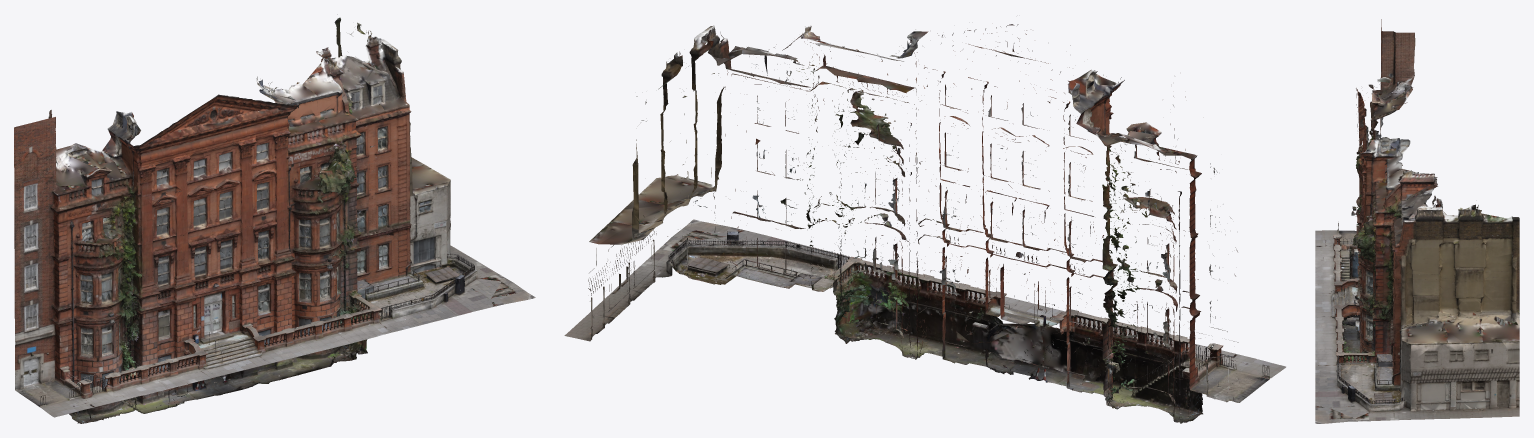
File: v5hosp.glb
The picture shows the model from 3 angles, left to right: view 1: azimuth 30°, elevation 25°; view 2: azimuth 150°, elevation 25°; view 3: azimuth 270°, elevation 25°; orthographic projection. The views are drawn at different scales.
Parts seen in each view (by area): view 1: front; view 2: front; view 3: front.
Part boxes in pixels (x1=…): front: x1=14, y1=14, x2=535, y2=423; front: x1=564, y1=24, x2=1285, y2=423; front: x1=1315, y1=19, x2=1519, y2=423.
Bounding box in the file's own units: 32.29 × 18.98 × 14.3.
Materials: 1 (1 with a texture image).
